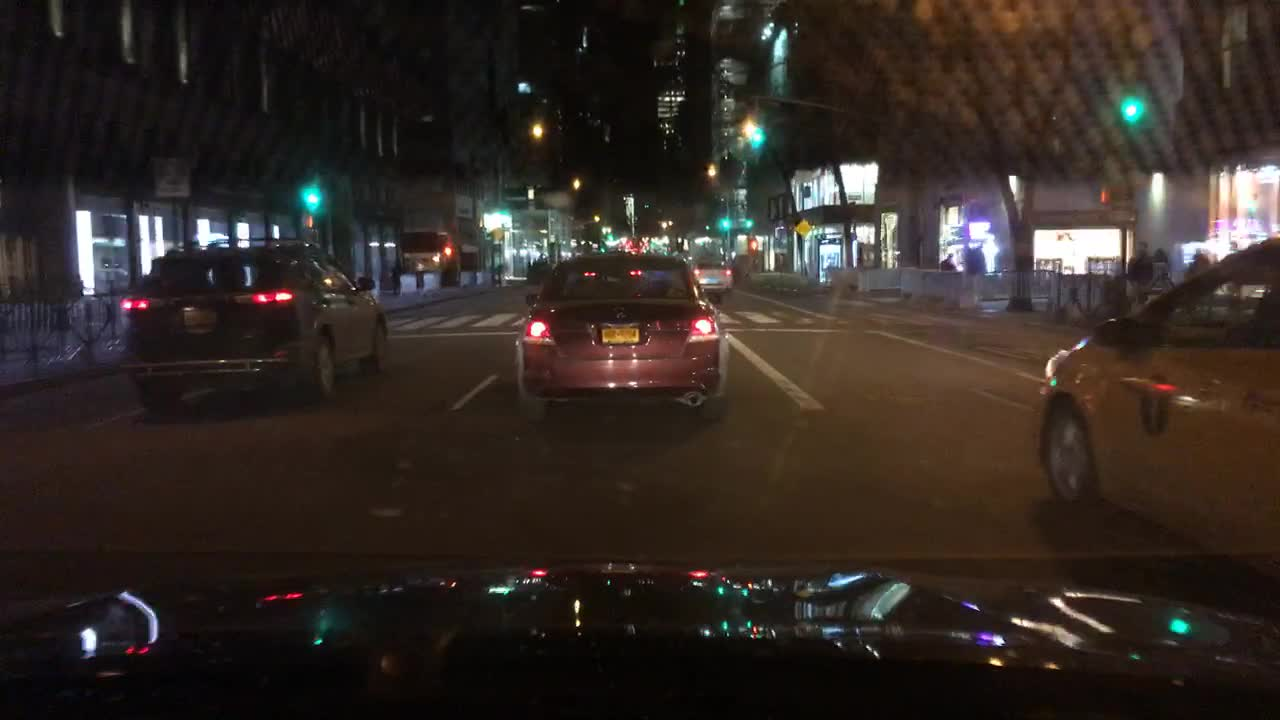car: (1039, 232, 1279, 556), (117, 235, 390, 409), (518, 249, 725, 418), (691, 257, 732, 297), (522, 264, 551, 304)
person: (1124, 239, 1152, 307), (388, 257, 409, 297), (1189, 249, 1205, 279), (939, 250, 954, 275), (1153, 246, 1163, 279)
traffic light: (1124, 86, 1138, 119), (747, 117, 760, 144), (744, 211, 754, 235), (304, 216, 319, 232), (744, 239, 760, 252), (308, 181, 315, 210), (443, 241, 453, 260), (721, 210, 730, 230), (1099, 184, 1106, 206), (603, 228, 613, 243)
traffic sign: (794, 217, 812, 238)
